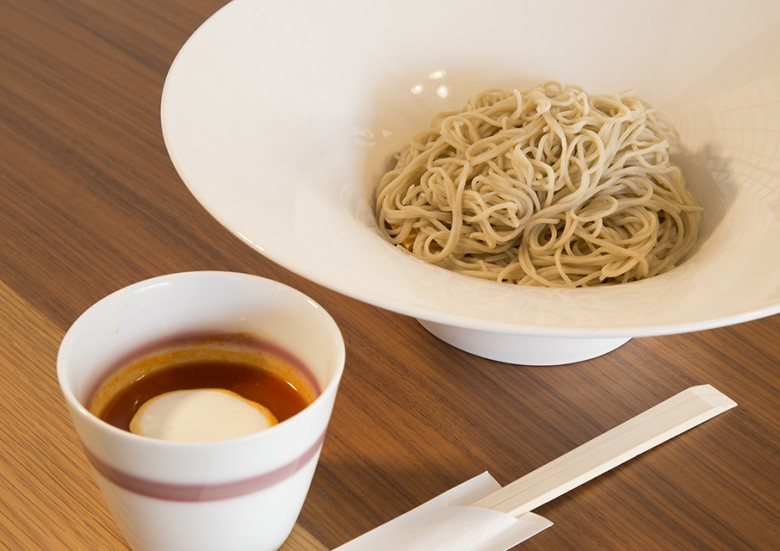Soba: (372, 80, 718, 293)
